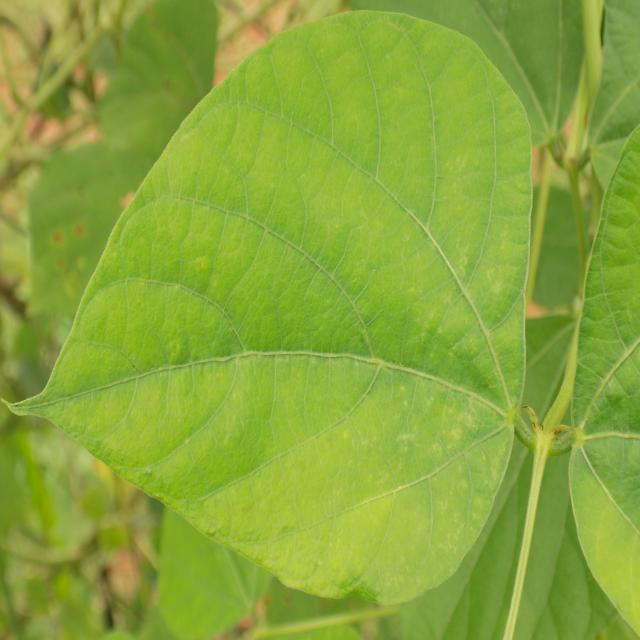Dolicos bean_healthy: (0, 9, 536, 605)
